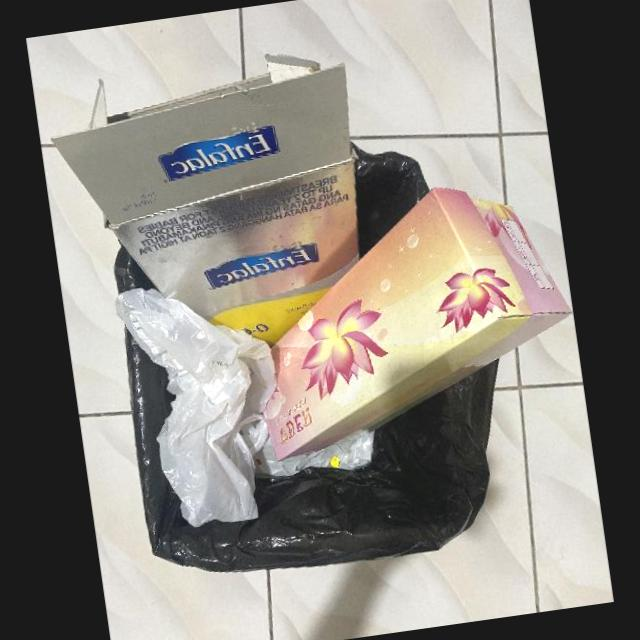carton: (51, 55, 369, 363), (248, 189, 571, 462)
tui_ni_long: (115, 288, 277, 528)
